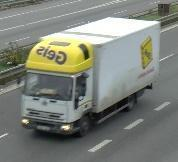truck: (20, 19, 160, 135)
